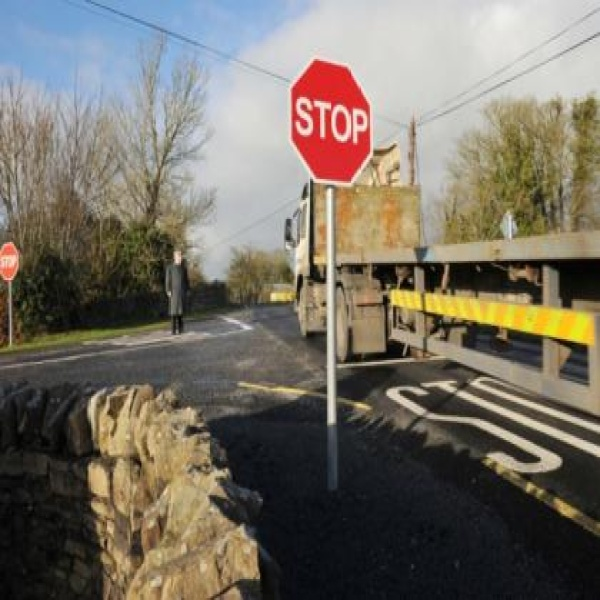stop: (289, 61, 377, 181)
